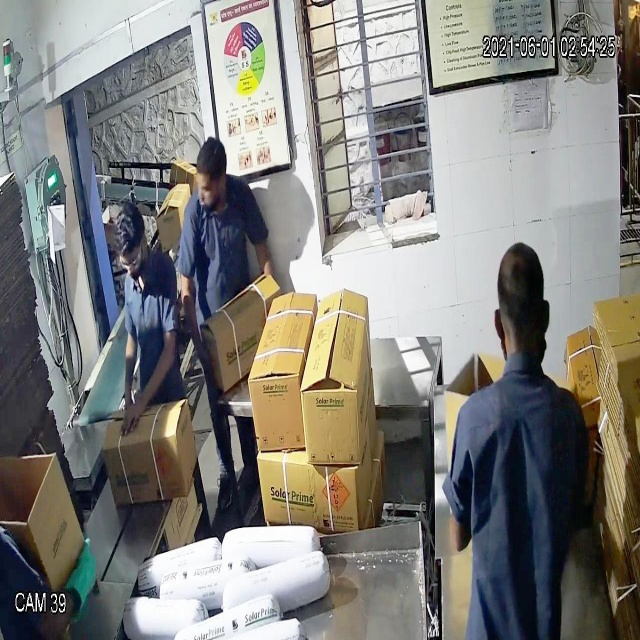Gafas: (114, 237, 151, 282)
